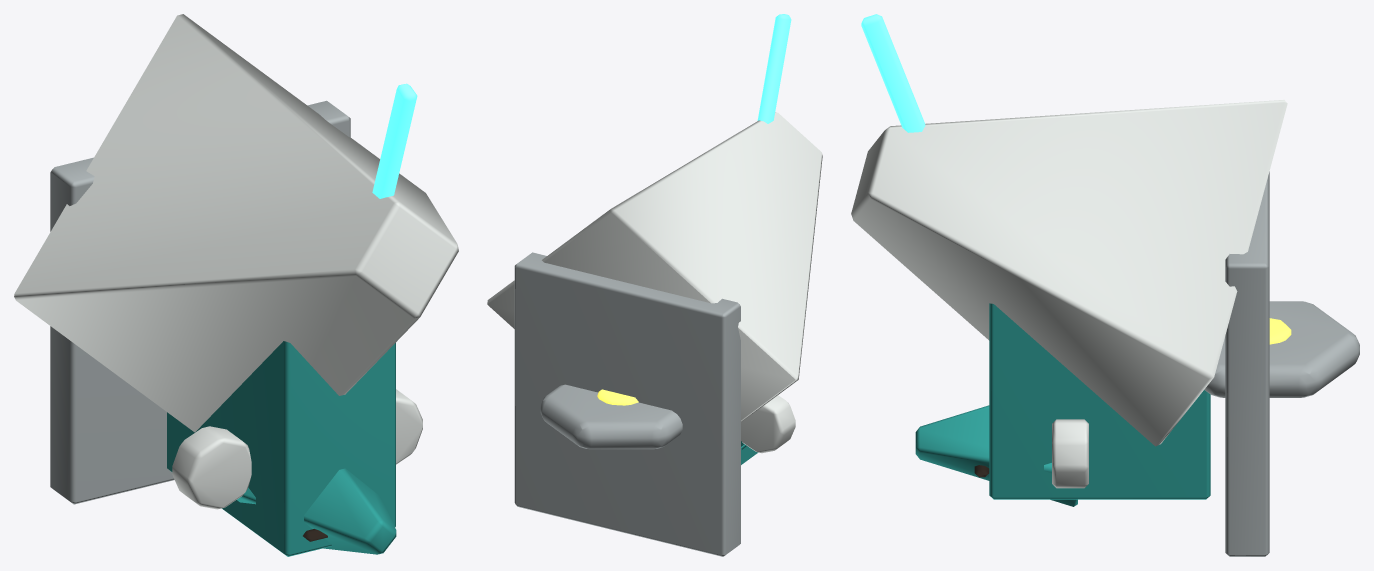
Rendered from whirligig_back_slipfin.glb.
The picture shows the model from 3 angles, left to right: view 1: azimuth 30°, elevation 25°; view 2: azimuth 150°, elevation 25°; view 3: azimuth 270°, elevation 25°; orthographic projection. The views are drawn at different scales.
Parts seen in each view (by area): view 1: whirligig_back_slipfin; view 2: whirligig_back_slipfin; view 3: whirligig_back_slipfin.
Boxes of the visible parts, x1,y1,x2,y2 form: whirligig_back_slipfin: [14, 14, 458, 556]; whirligig_back_slipfin: [487, 14, 822, 556]; whirligig_back_slipfin: [851, 14, 1359, 556].
Size of the model in its own units: 0.586 by 0.7341 by 0.6902.
Materials: 1 (1 with a texture image).
